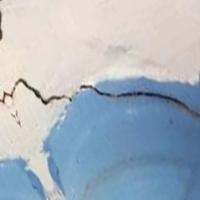crack: (0, 59, 199, 148)
